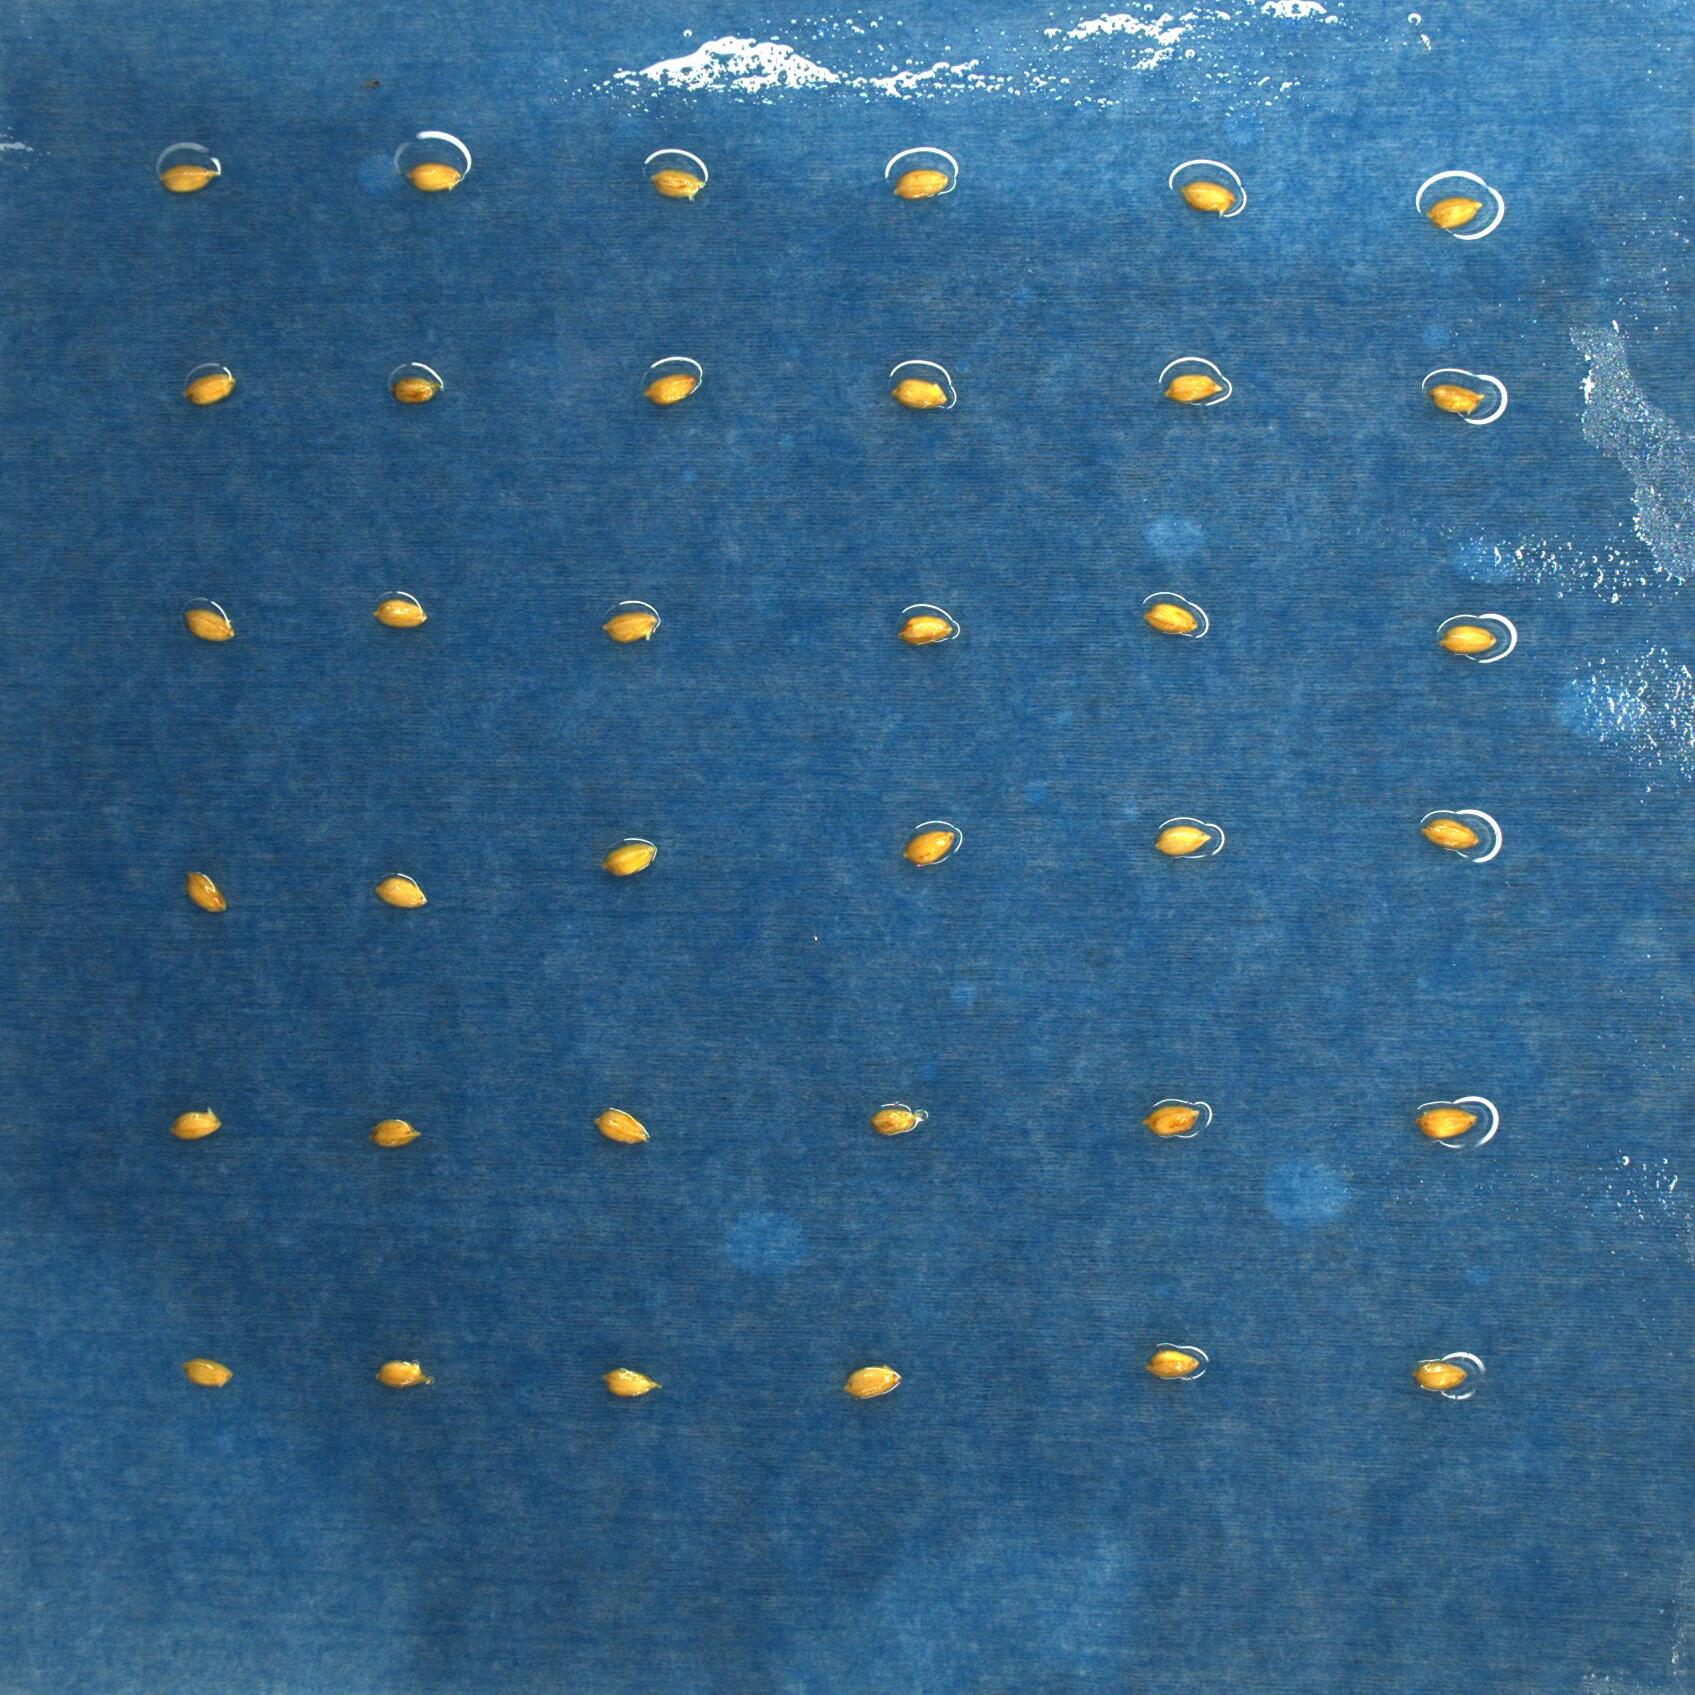not sprout: (1409, 1107, 1482, 1142), (180, 598, 237, 643), (647, 165, 705, 208), (1178, 177, 1239, 217), (1419, 194, 1485, 230), (899, 827, 961, 865), (366, 872, 428, 910), (1146, 1099, 1203, 1138), (888, 376, 948, 411), (1150, 821, 1211, 857), (1147, 599, 1200, 640), (1158, 369, 1223, 402), (163, 1108, 225, 1142), (841, 1364, 903, 1399), (602, 605, 658, 643), (593, 1107, 650, 1142), (185, 366, 230, 411), (601, 841, 657, 877), (1425, 380, 1485, 413), (894, 613, 955, 646), (157, 161, 214, 196), (1409, 1361, 1467, 1395), (1417, 820, 1479, 851), (643, 373, 702, 405), (1440, 621, 1496, 655), (869, 1107, 930, 1138), (374, 593, 428, 627), (368, 1111, 422, 1146), (186, 1350, 234, 1388), (373, 1357, 432, 1386), (400, 158, 458, 188), (893, 169, 950, 199), (185, 875, 230, 913), (602, 1367, 661, 1395), (390, 376, 436, 405), (1146, 1352, 1200, 1375)
